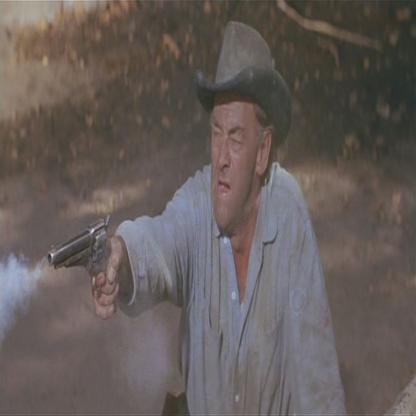gun: (32, 213, 121, 310)
